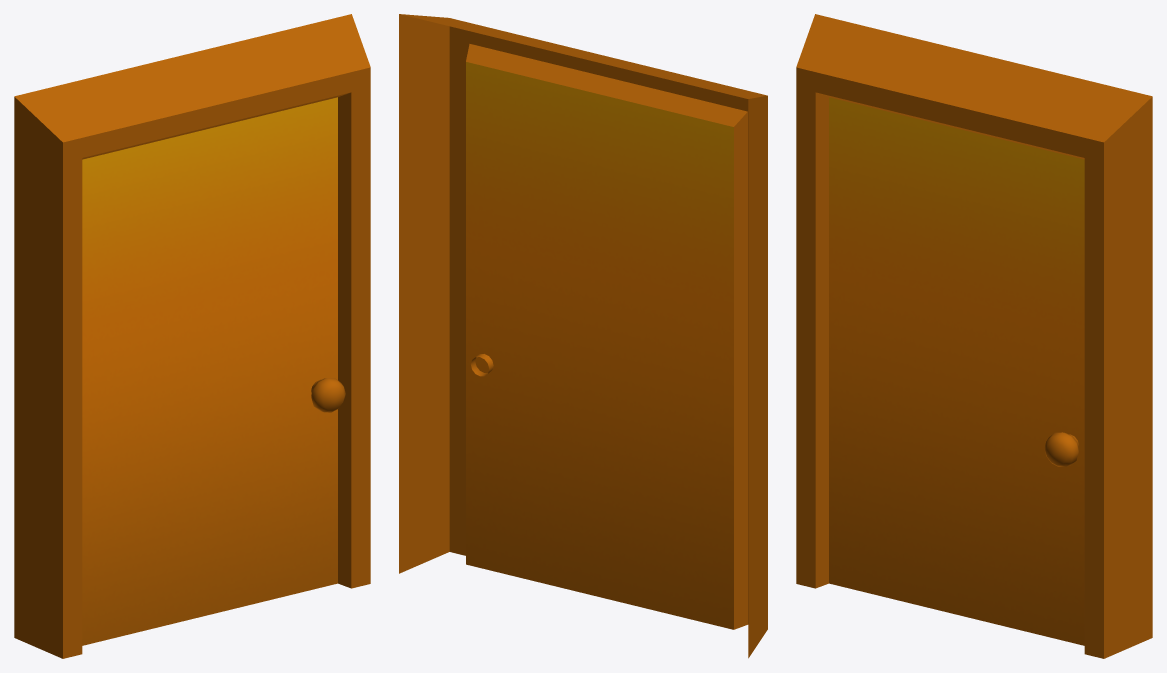
The model's file is Puerta.FBX.
3 renders of one model, left to right at view 1: azimuth 30°, elevation 25°; view 2: azimuth 150°, elevation 25°; view 3: azimuth 330°, elevation 25°, orthographic. The views are drawn at different scales.
Visible parts, largest first — view 1: Box006; view 2: Box006; view 3: Box006.
Part boxes in pixels (x1,y1,x2,y2): Box006: (14,14,370,658); Box006: (399,14,767,658); Box006: (796,14,1152,658).
Size of the model in its own units: 88.05 by 135 by 18.54.
